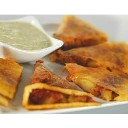dosa: (22, 57, 84, 112), (59, 16, 128, 63)
